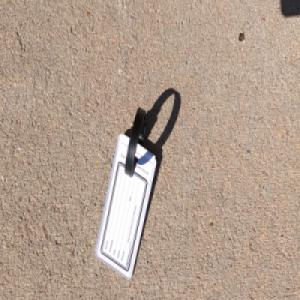LuggageTag: (94, 105, 157, 280)
